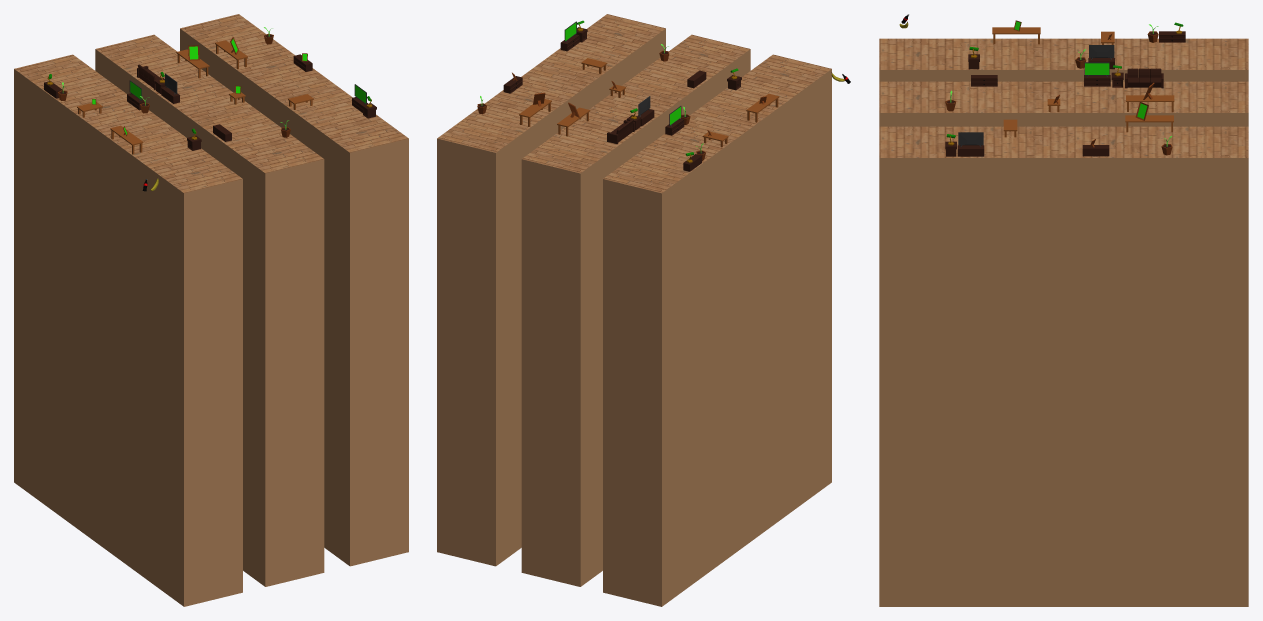
The model's file is stage1_4.glb.
3 renders of one model, left to right at view 1: azimuth 30°, elevation 25°; view 2: azimuth 150°, elevation 25°; view 3: azimuth 270°, elevation 25°, orthographic. The views are drawn at different scales.
Visible parts, largest first — view 1: $Road1, $Road3, $Road2; view 2: $Road1, $Road3, $Road2; view 3: $Road3, $Road2, $Road1, sofa1.
Part boxes in pixels (box(x1,y1,x2,y2)): $Road1: box(14, 54, 242, 606); $Road3: box(180, 14, 408, 566); $Road2: box(95, 34, 324, 586); $Road1: box(603, 54, 831, 606); $Road3: box(437, 14, 665, 566); $Road2: box(521, 34, 750, 586); $Road3: box(879, 126, 1248, 606); $Road2: box(879, 81, 1248, 126); $Road1: box(879, 38, 1248, 81); sofa1: box(1125, 68, 1163, 88).
Bounding box in the file's own units: 25.92 × 42.51 × 30.
16 materials, 1 textured.
